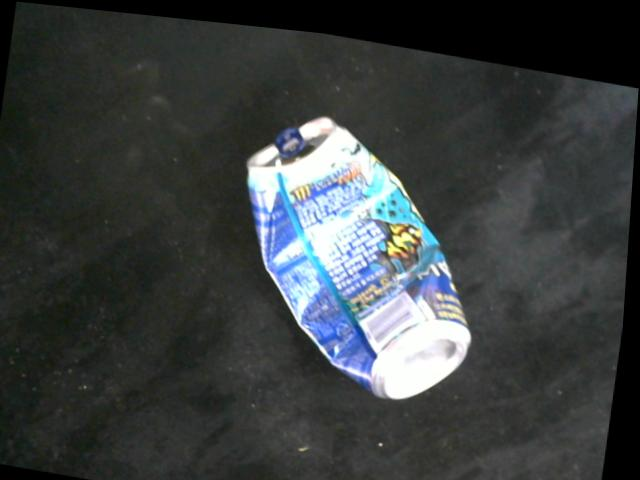can: (254, 114, 477, 391)
